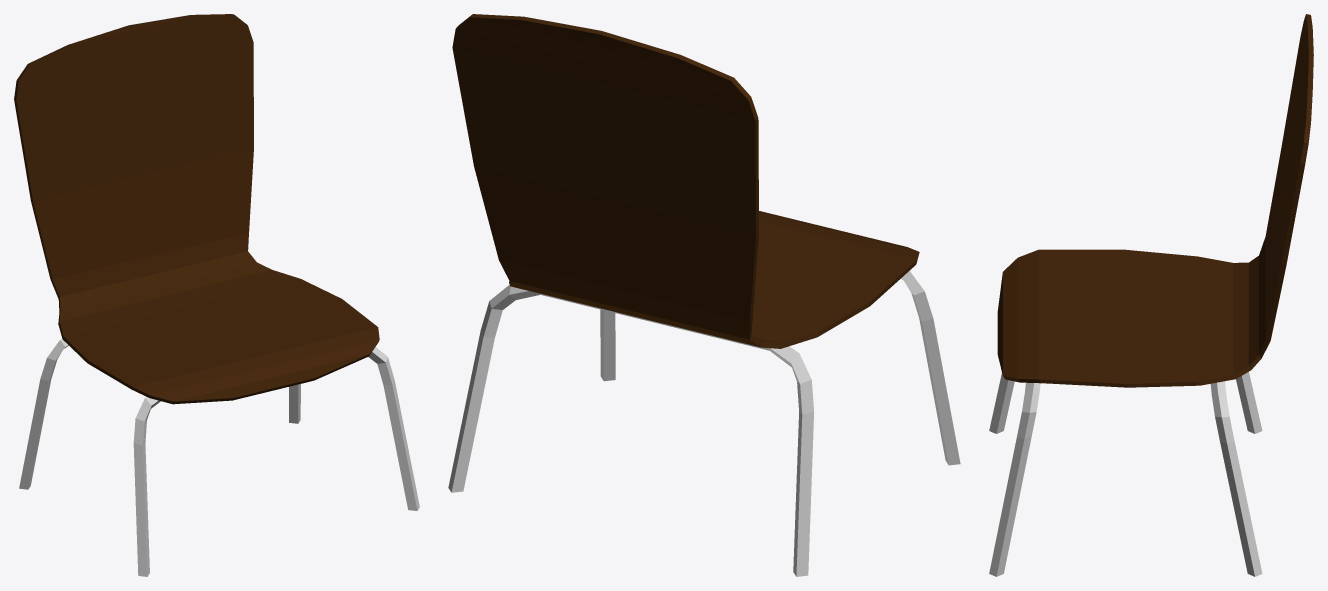
File: Chair.fbx
3 views of the same model, side by side, from view 1: azimuth 30°, elevation 25°; view 2: azimuth 150°, elevation 25°; view 3: azimuth 270°, elevation 25° (orthographic). The views are drawn at different scales.
Parts seen in each view (by area): view 1: Chair; view 2: Chair; view 3: Chair.
Boxes of the visible parts, bbox=[...] form: Chair: bbox=[14, 14, 419, 576]; Chair: bbox=[448, 14, 960, 576]; Chair: bbox=[989, 14, 1313, 576].
Size of the model in its own units: 68.88 by 96.04 by 63.39.
